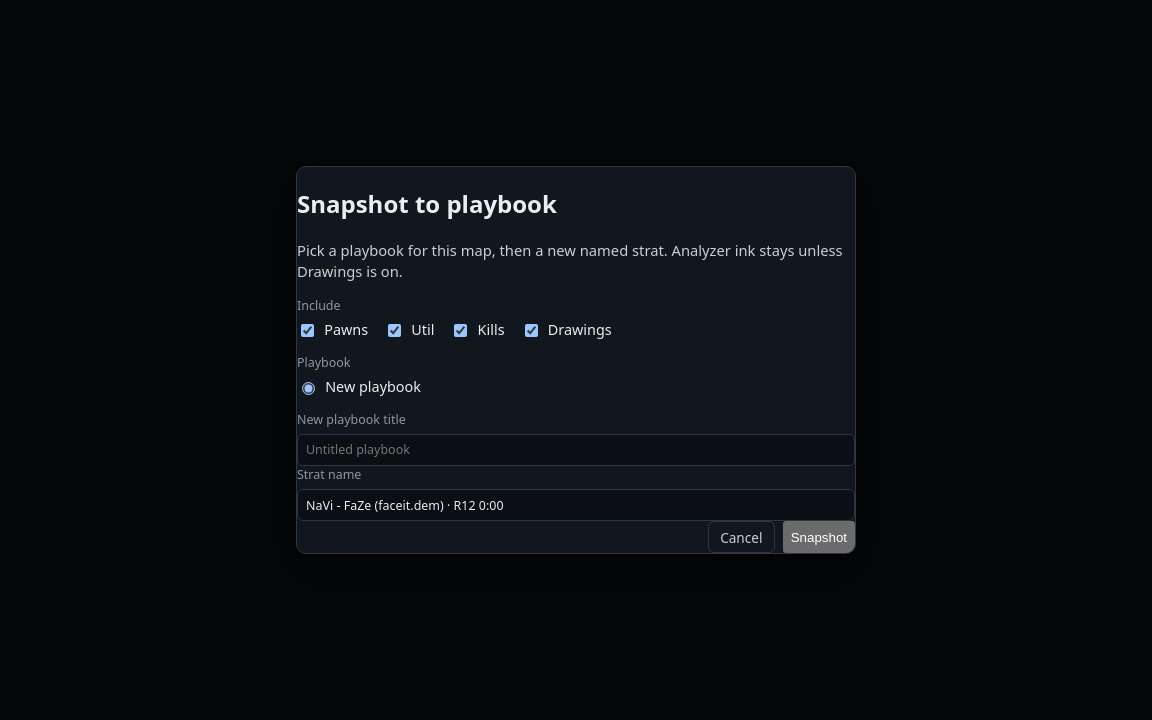
Scenario: SnapshotDialog › shows an error when snapshot write fails
The image size is (1152, 720).
Step 1. Click the button "Snapshot" → (819, 537), box [783,521,855,553]
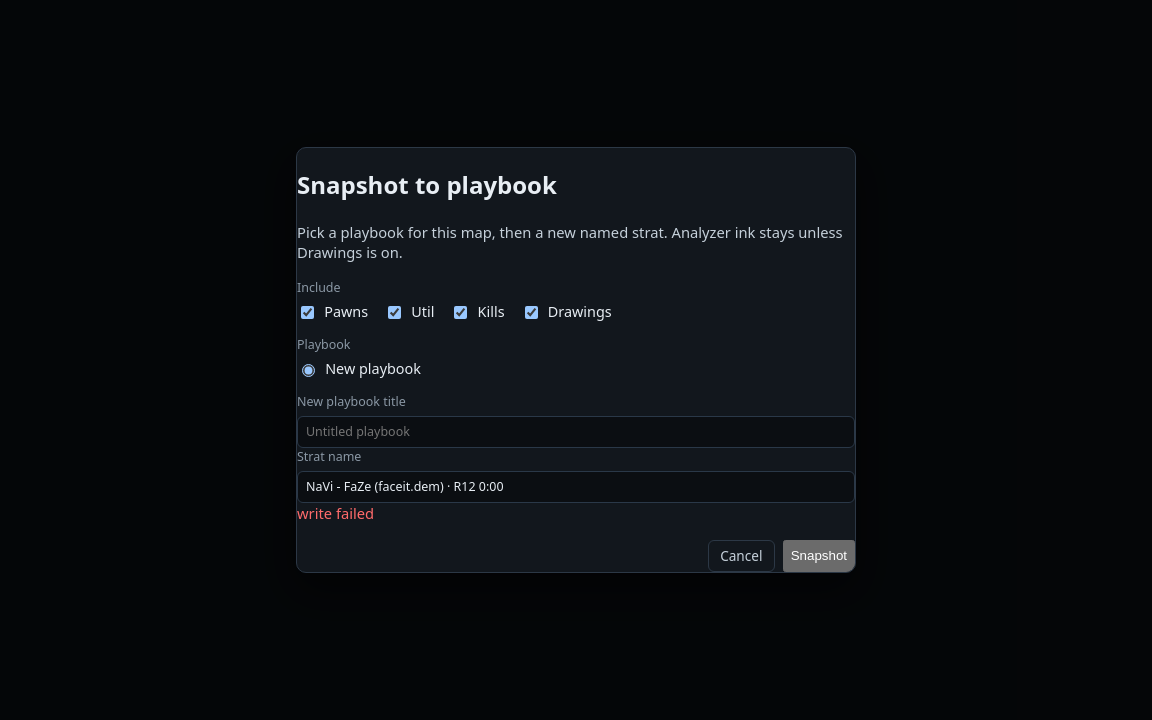
Result: the text "write failed" is shown at [297,503,374,523]
